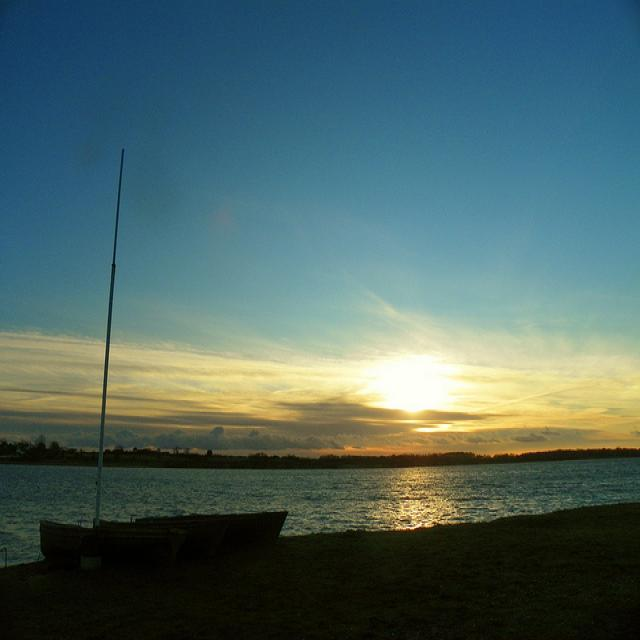Boat: (45, 138, 182, 565), (120, 487, 230, 559), (186, 481, 288, 547)
